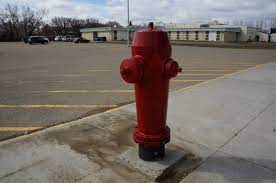firehdyrant: (119, 24, 183, 164)
